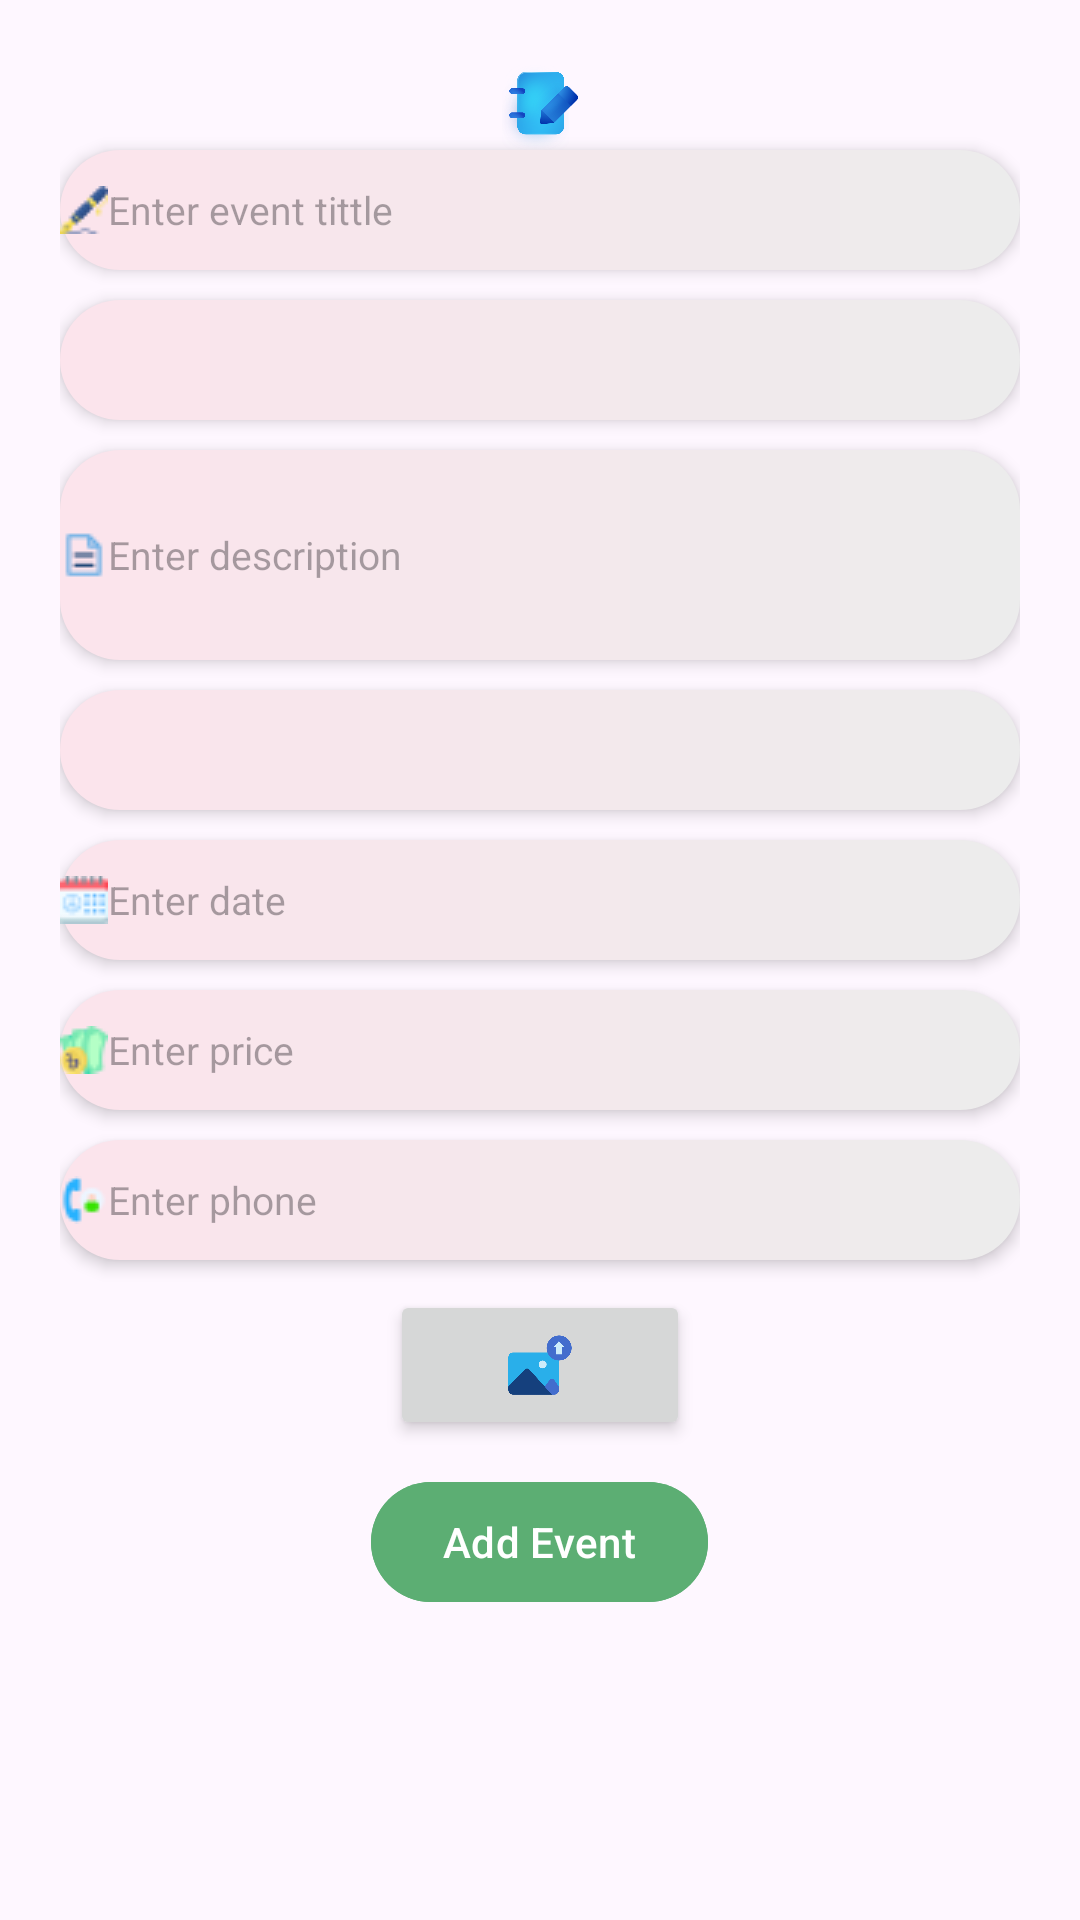

Locate icon controls on the screen. Image size 1080 × 1920, boxes as bbox(x1, y1, x2, y2).
createevent: bbox(509, 72, 578, 140)
uploadphoto: bbox(402, 1308, 678, 1428)
